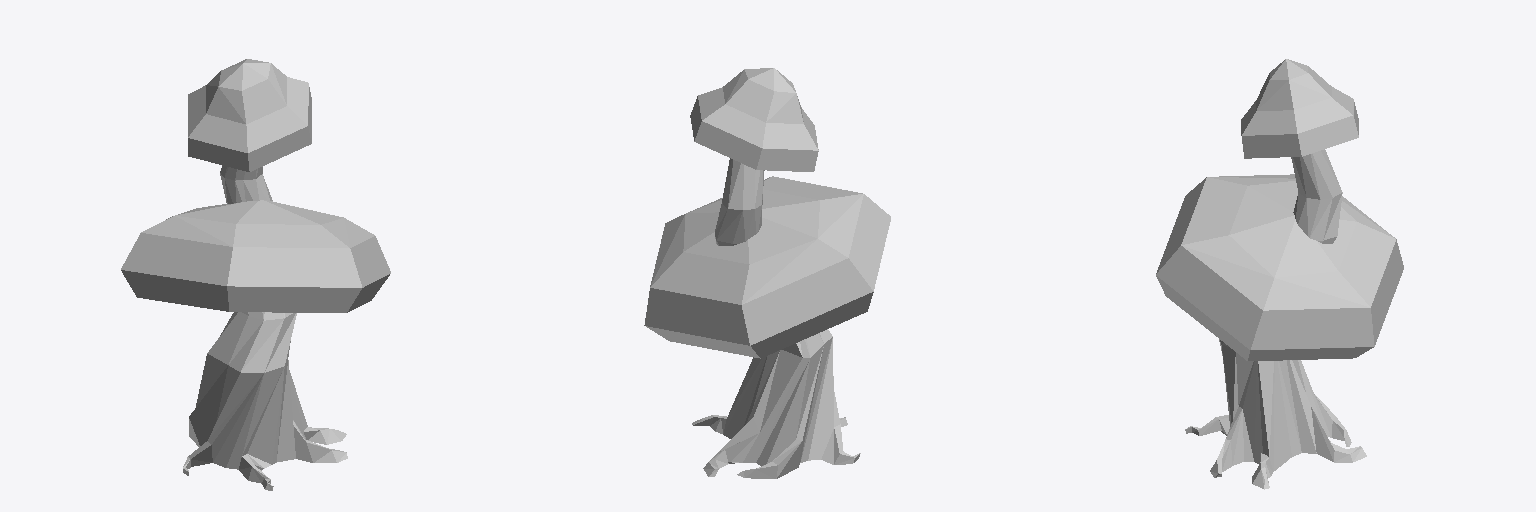
The model's file is tree1.obj.
The picture shows the model from 3 angles: view 1: azimuth 30°, elevation 25°; view 2: azimuth 150°, elevation 25°; view 3: azimuth 270°, elevation 25°; orthographic projection.
Visible parts, largest first — view 1: polySurface2; view 2: polySurface2; view 3: polySurface2.
Boxes of the visible parts, x1=… form: polySurface2: x1=121, y1=59, x2=390, y2=490; polySurface2: x1=644, y1=68, x2=890, y2=478; polySurface2: x1=1156, y1=59, x2=1403, y2=489.
Size of the model in its own units: 7.45 by 11.38 by 6.65.